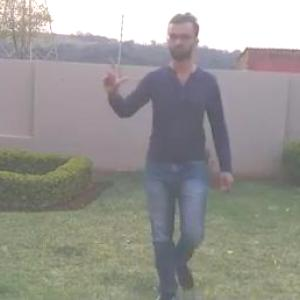land_hand: (96, 50, 132, 94)
